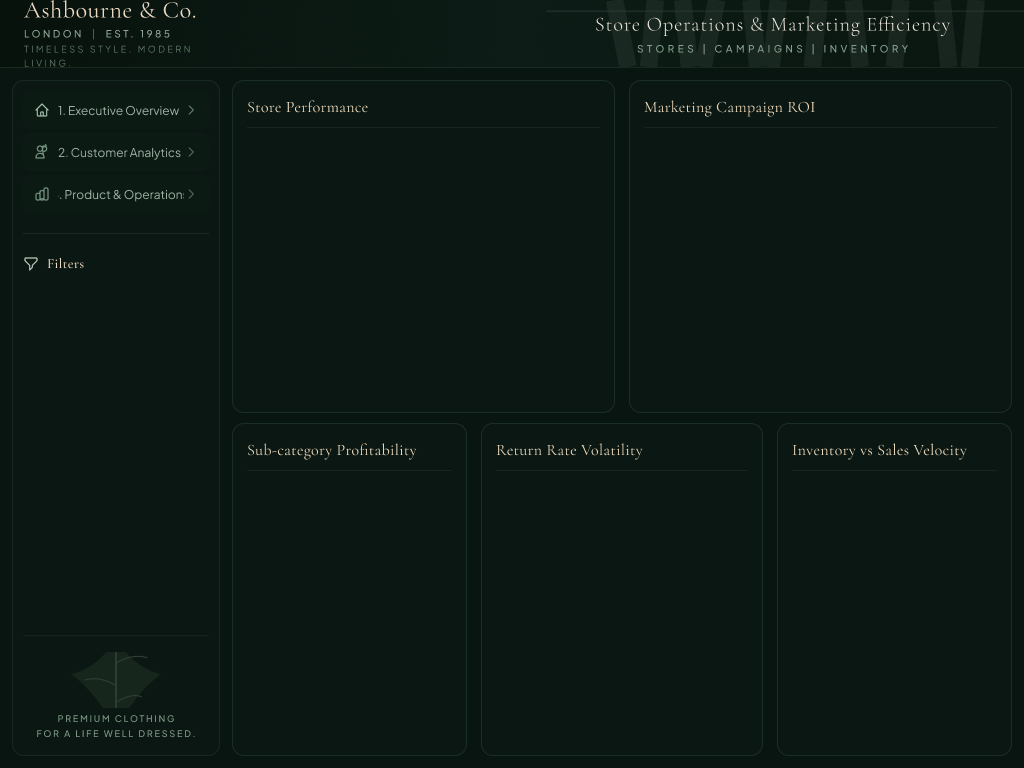

The dashboard page shown, as its layout file describes it:
{"tool":"tableau","page":{"name":"Product & Operations","canvas":[1024,768],"ordinal":2},"visuals":[{"type":"image","param":"Image/page 3.png","box":[8,8,1008,752]},{"type":"dashboard-object","box":[29,100,194,35]},{"type":"worksheet","title":"Store Performance","mark":"Automatic","rows":["store_name"],"cols":["Calculation_810085034351411217","Calculation_810085034351566866"],"box":[248,130,361,277]},{"type":"worksheet","title":"Marketing Campaign ROI","mark":"Automatic","rows":["Calculation_810085034357772318"],"cols":["Calculation_810085034359382047","Calculation_810085034355191829"],"box":[629,134,364,274]},{"type":"dashboard-object","box":[30,141,194,35]},{"type":"dashboard-object","box":[30,183,194,32]},{"type":"parameter","param":"[Parameters].[Parameter 9]","box":[27,320,185,44]},{"type":"parameter","param":"[Parameters].[Parameter 10]","box":[26,374,185,44]},{"type":"parameter","param":"[Parameters].[Parameter 8]","box":[27,426,185,44]},{"type":"legend","title":"Inventory vs Sales Velocity","param":"[federated.1591cv20ekxbvl1bdkpwh18ajdy5 (copy)].[usr:Calculation_810085034372489","box":[610,465,140,76]},{"type":"worksheet","title":"Inventory vs Sales Velocity","mark":"Circle","rows":["Calculation_810085034372489255"],"cols":["Calculation_810085034372431910"],"box":[770,465,226,282]},{"type":"worksheet","title":"Return Rate Volatility","mark":"Line","rows":["Calculation_810085034360025120"],"cols":["order_date"],"box":[482,469,269,271]},{"type":"worksheet","title":"Sub-category Profitability","mark":"Automatic","rows":["Calculation_810085034353827860"],"cols":["Calculation_810085034353201171"],"box":[243,474,223,270]},{"type":"parameter","param":"[Parameters].[Parameter 1]","box":[26,478,184,50]}]}

Visuals, with their boxes on the page's 1024x768 design canvas (x1, y1, x2, y2). These are canvas units, not pixel positions in the 1024x768 screenshot, which may show the page scaled, cropped or inside an application window:
image: x1=8, y1=8, x2=1016, y2=760
dashboard-object: x1=29, y1=100, x2=223, y2=135
"Store Performance" worksheet: x1=248, y1=130, x2=609, y2=407
"Marketing Campaign ROI" worksheet: x1=629, y1=134, x2=993, y2=408
dashboard-object: x1=30, y1=141, x2=224, y2=176
dashboard-object: x1=30, y1=183, x2=224, y2=215
parameter: x1=27, y1=320, x2=212, y2=364
parameter: x1=26, y1=374, x2=211, y2=418
parameter: x1=27, y1=426, x2=212, y2=470
"Inventory vs Sales Velocity" legend: x1=610, y1=465, x2=750, y2=541
"Inventory vs Sales Velocity" worksheet (Circle marks): x1=770, y1=465, x2=996, y2=747
"Return Rate Volatility" worksheet (Line marks): x1=482, y1=469, x2=751, y2=740
"Sub-category Profitability" worksheet: x1=243, y1=474, x2=466, y2=744
parameter: x1=26, y1=478, x2=210, y2=528
